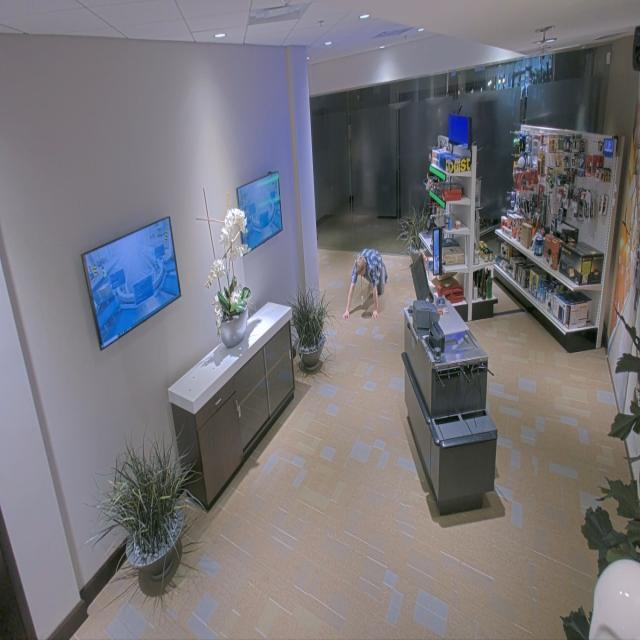fall: (340, 240, 394, 333)
